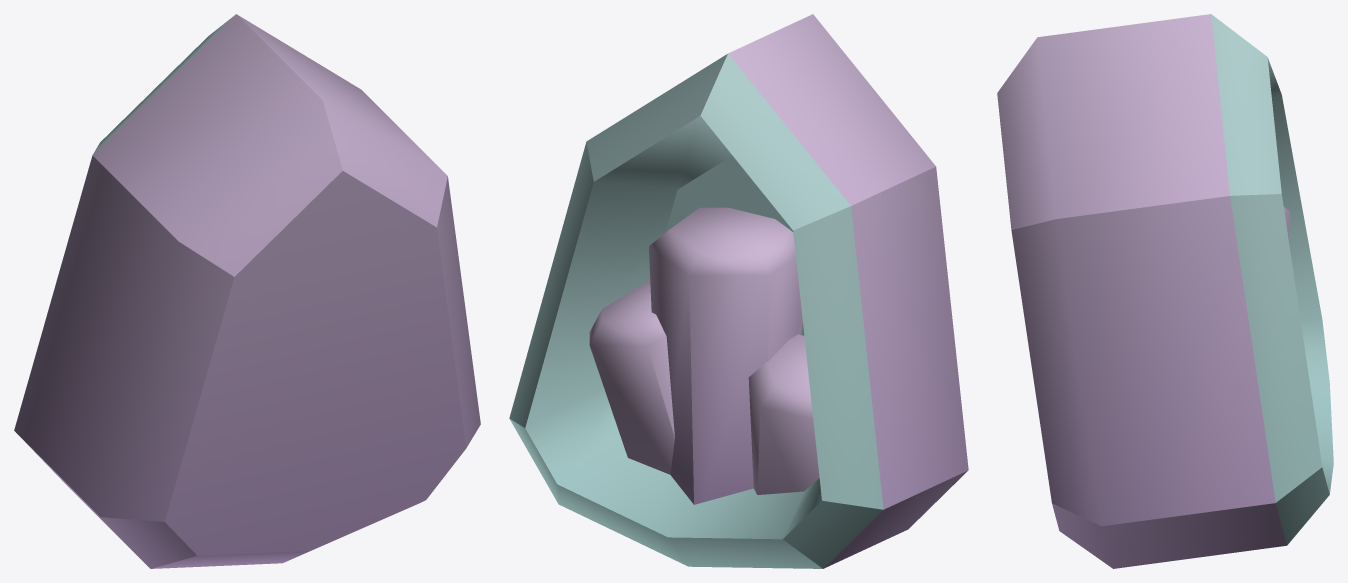
The model's file is crystal.glb.
The picture shows the model from 3 angles, left to right: view 1: azimuth 30°, elevation 25°; view 2: azimuth 150°, elevation 25°; view 3: azimuth 270°, elevation 25°; orthographic projection. The views are drawn at different scales.
Visible parts, largest first — view 1: crystal; view 2: crystal; view 3: crystal.
Part boxes in pixels (left/top/right/bottom): crystal: left=14, top=14, right=480, bottom=568; crystal: left=509, top=14, right=968, bottom=568; crystal: left=997, top=14, right=1333, bottom=568.
Size of the model in its own units: 0.2354 by 0.3048 by 0.1795.
